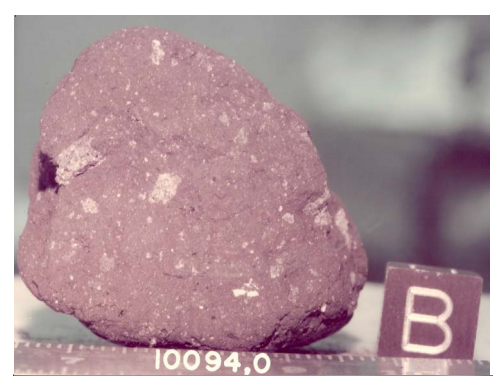Breccia: (17, 22, 350, 349)
